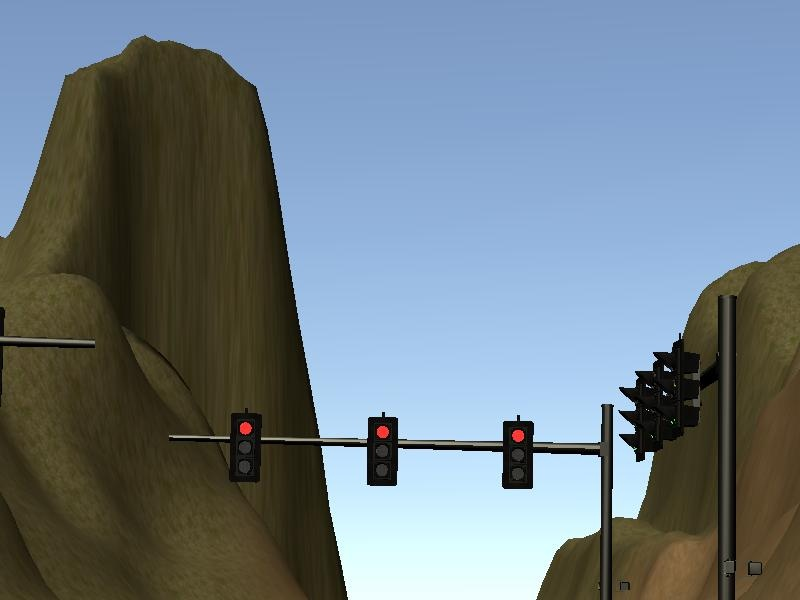red: (498, 416, 538, 496), (364, 414, 402, 495), (228, 408, 264, 483)
